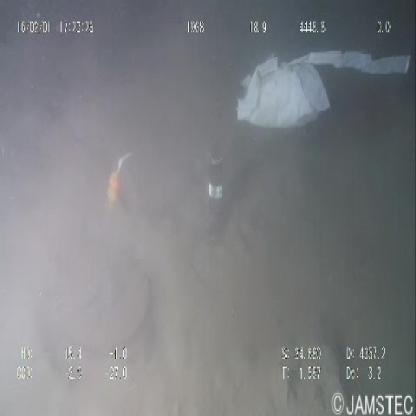Rov: (77, 139, 228, 362)
Rác: (232, 43, 414, 143)
